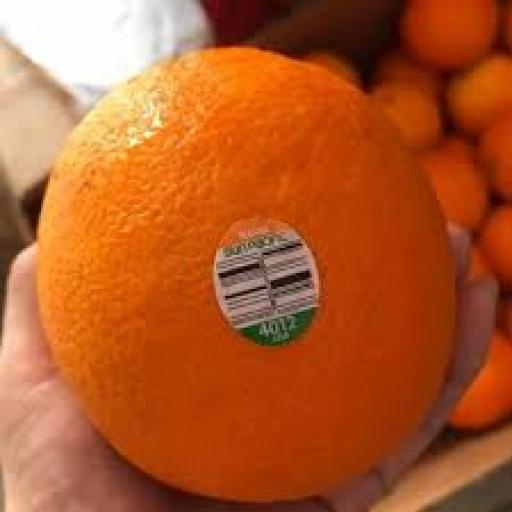orange: (39, 48, 455, 500), (421, 142, 489, 229), (451, 333, 511, 430), (447, 55, 511, 134), (371, 82, 441, 150), (374, 51, 441, 95), (481, 110, 511, 200), (481, 205, 511, 288), (303, 51, 361, 86), (444, 135, 475, 161), (469, 244, 491, 279), (499, 296, 511, 336)
